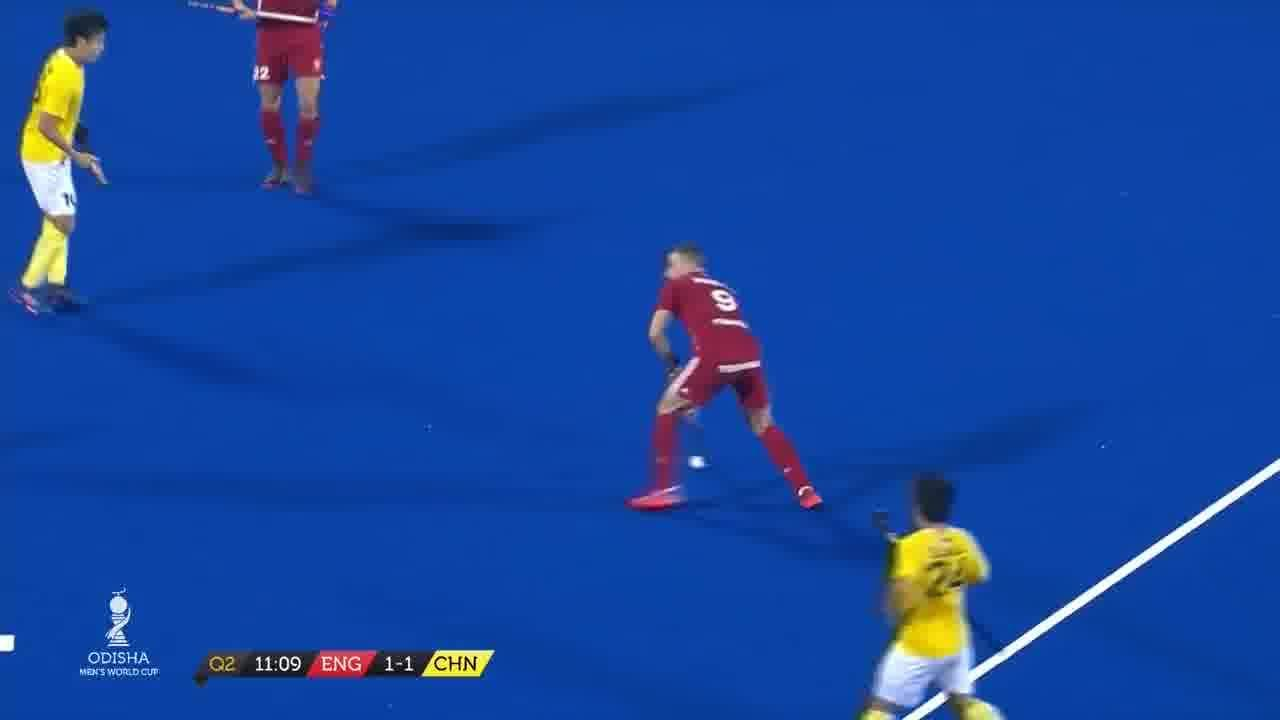ball: (688, 448, 708, 478)
